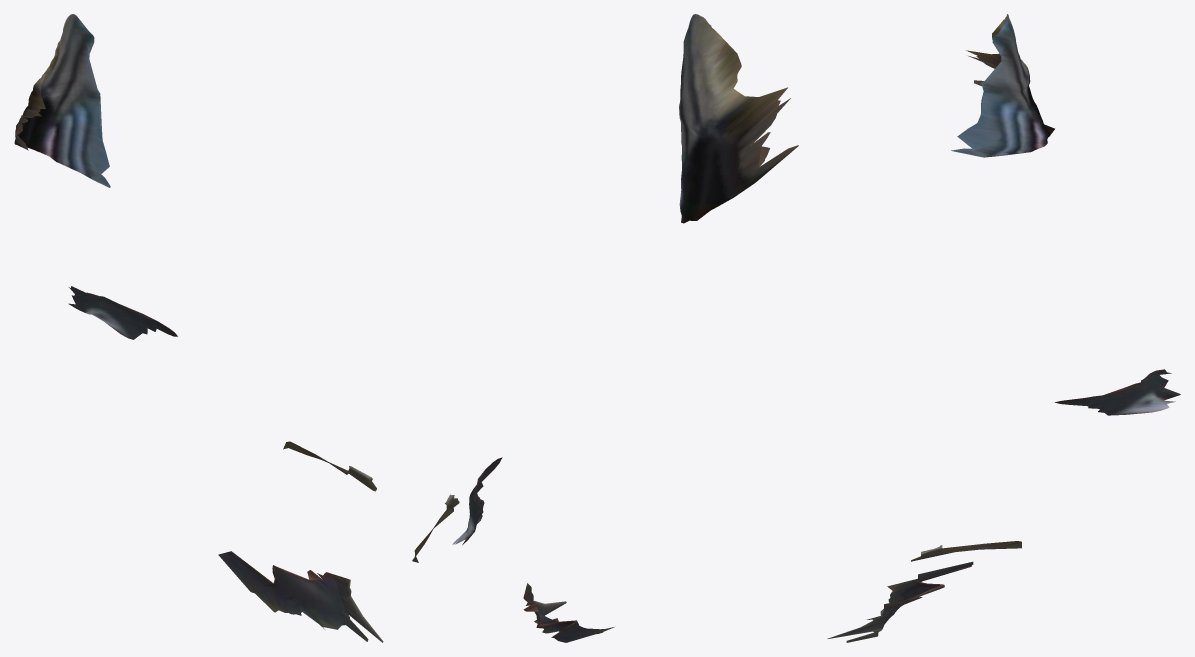
Rendered from observed-surface.glb.
The picture shows the model from 3 angles, left to right: view 1: azimuth 30°, elevation 25°; view 2: azimuth 150°, elevation 25°; view 3: azimuth 270°, elevation 25°; orthographic projection. The views are drawn at different scales.
Parts seen in each view (by area): view 1: geometry_0; view 2: geometry_0; view 3: geometry_0.
Part boxes in pixels (box(x1,y1,x2,y2)): geometry_0: box(14, 14, 383, 642); geometry_0: box(412, 14, 798, 642); geometry_0: box(827, 14, 1180, 642).
Size of the model in its own units: 0.3639 by 0.6751 by 0.4003.
1 material, 1 textured.
